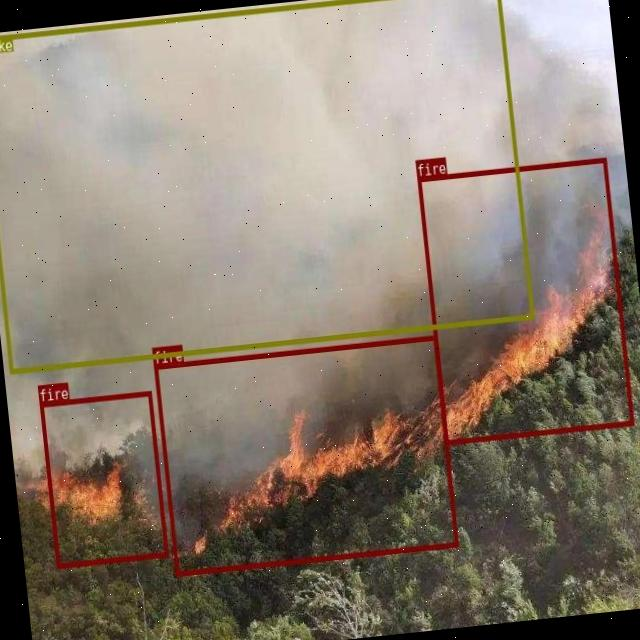fire: (154, 334, 458, 576), (417, 156, 632, 444), (39, 390, 167, 568)
smoke: (0, 0, 534, 373)
